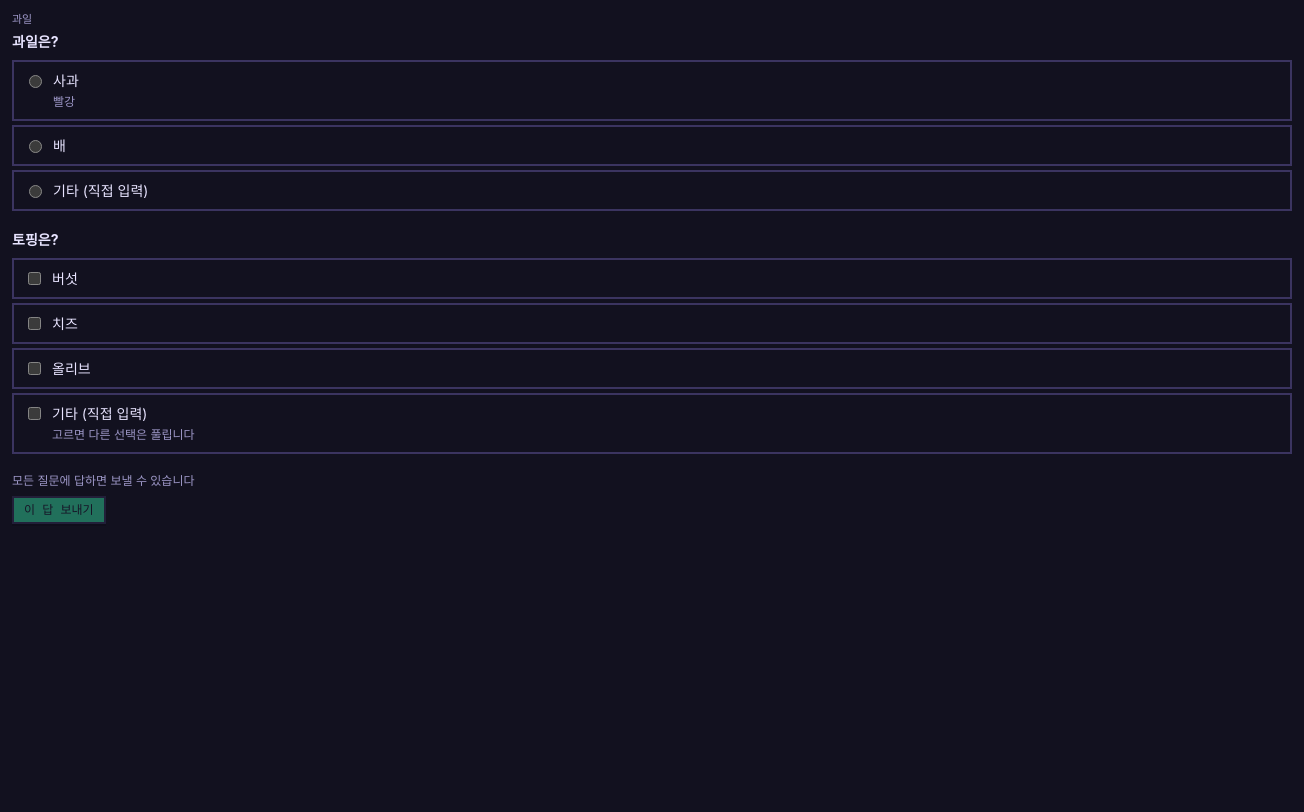
Test: QuestionForm › 다중 선택의 기타는 다른 선택지와 함께 고를 수 없다
This screenshot has width=1304, height=812.
Click the checkbox labelled "치즈" at (34, 323), box [28,316,41,330]
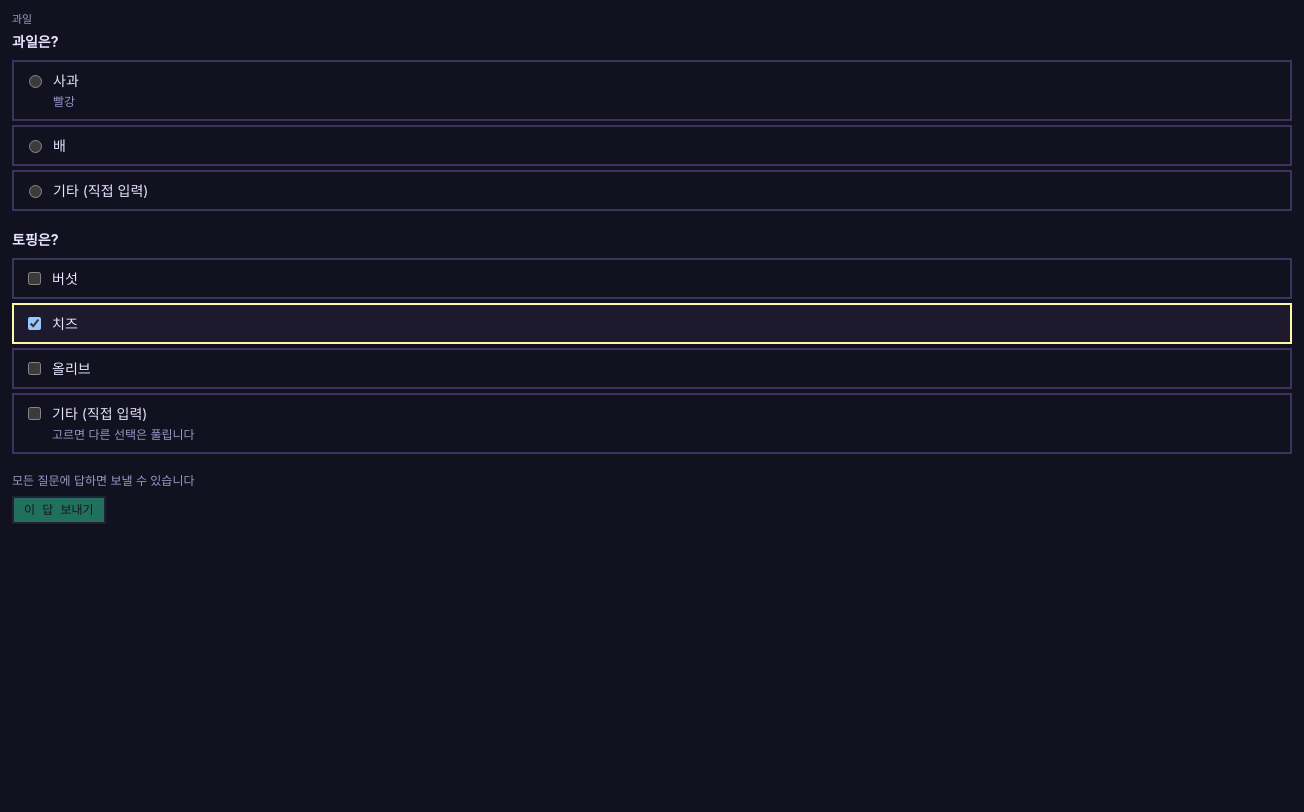
Click the checkbox labelled "기타 (직접 입력) 고르면 다른 선택은 풀립니다" at (34, 413), box [28,406,41,420]
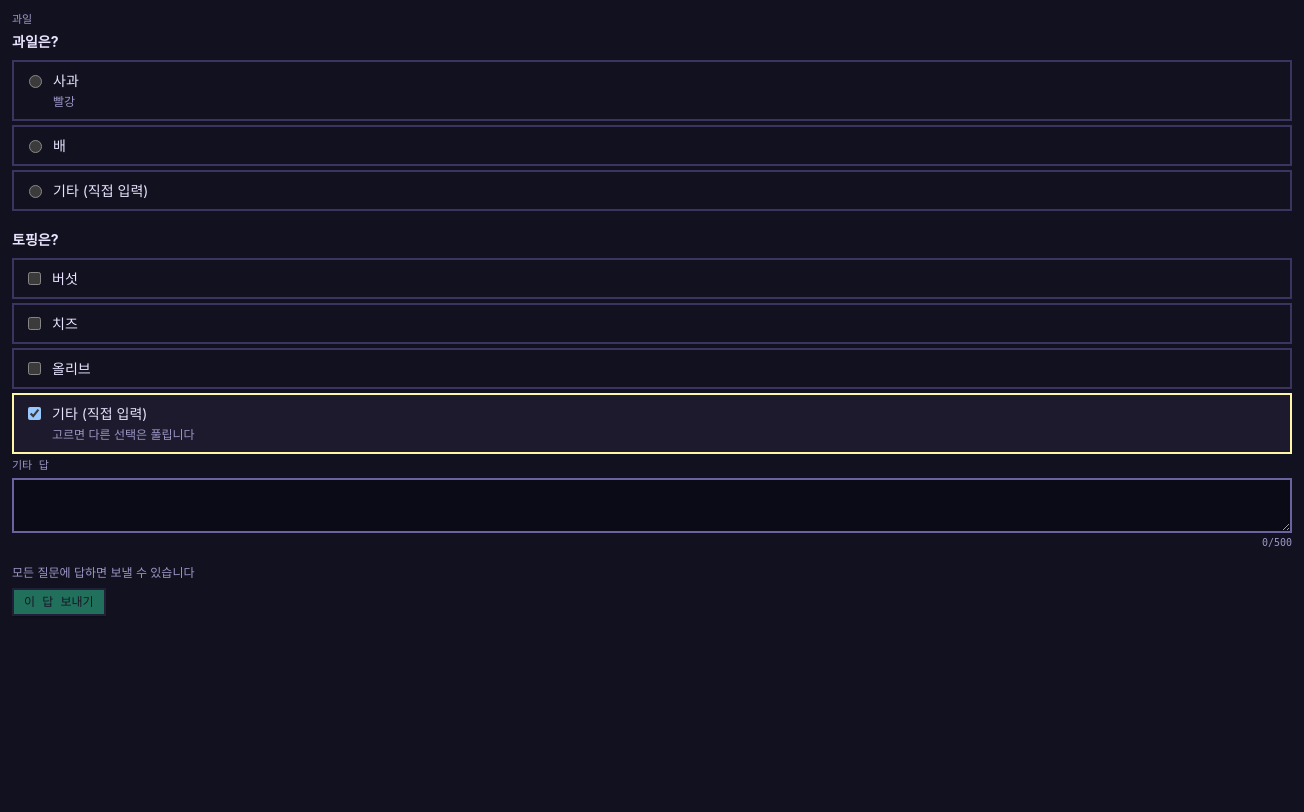
expect the checkbox labelled "치즈" is not checked: met
expect the checkbox labelled "기타 (직접 입력) 고르면 다른 선택은 풀립니다" is checked: met, box [28,406,41,420]
Click the checkbox labelled "치즈" at (34, 323), box [28,316,41,330]
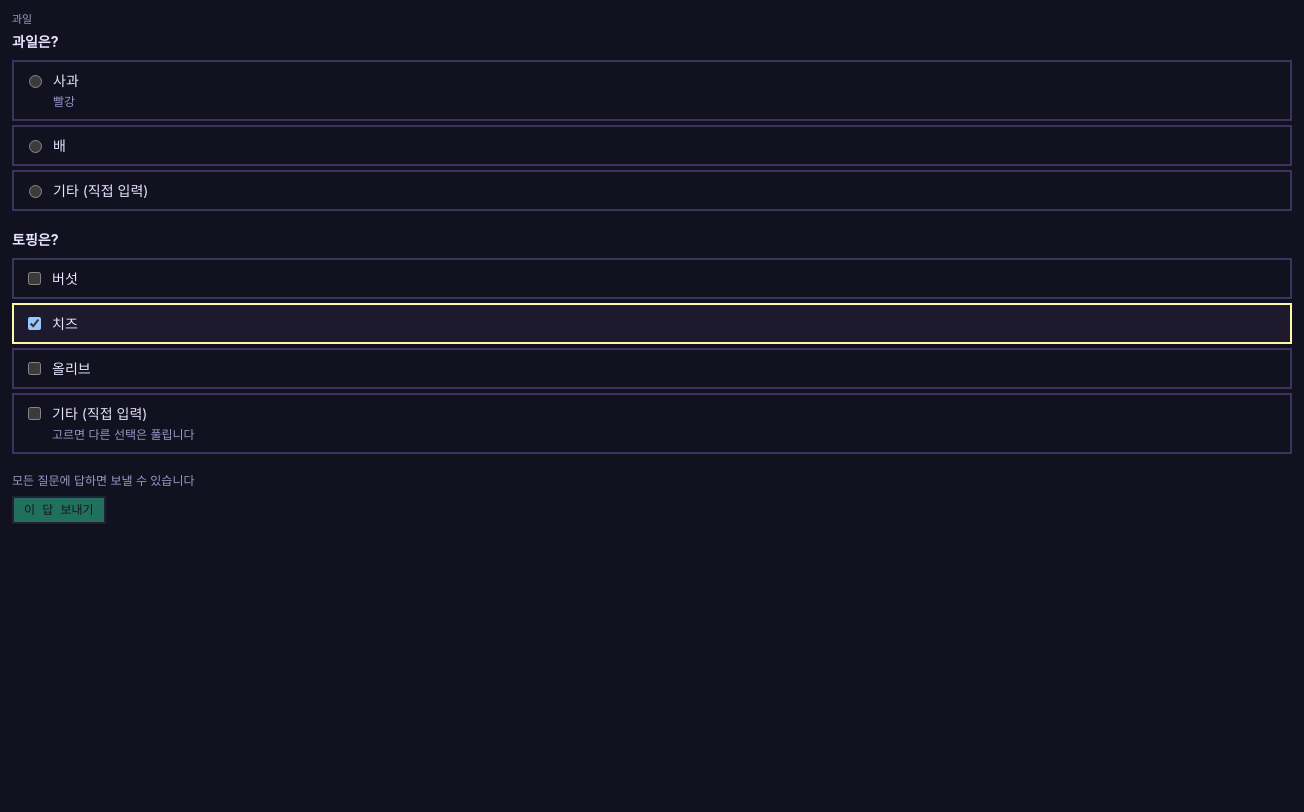
expect the checkbox labelled "기타 (직접 입력) 고르면 다른 선택은 풀립니다" is not checked: met, box [28,406,41,420]
expect the label labelled "기타 답" is gone: met
